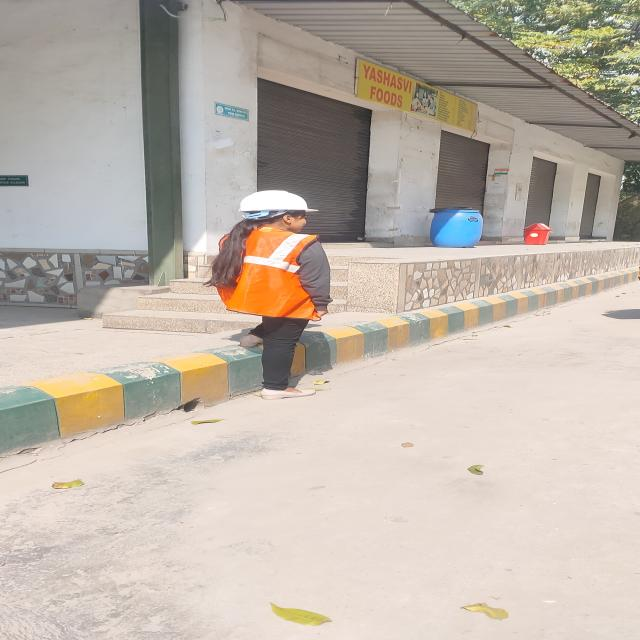safe: (208, 190, 330, 400)
